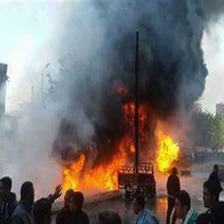fire: (71, 4, 181, 170), (59, 150, 127, 194)
